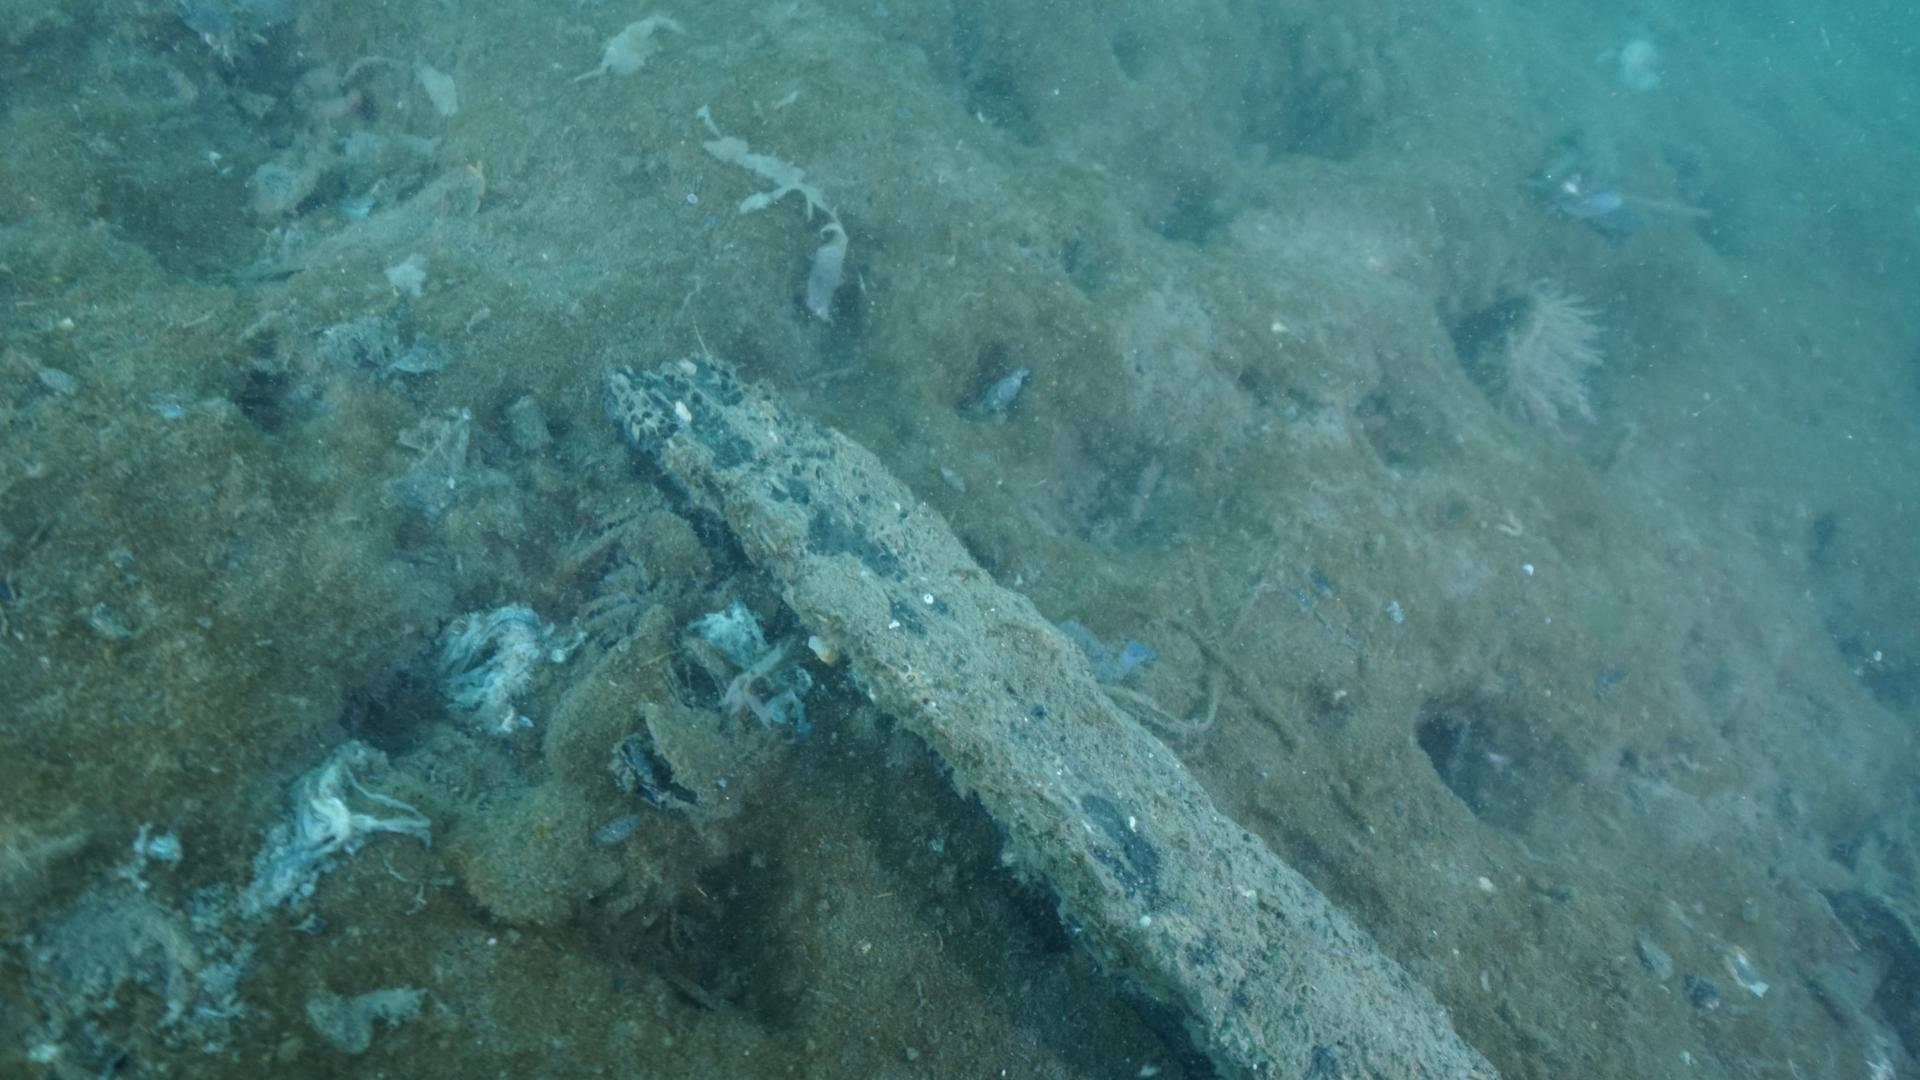wood: (589, 345, 1505, 1080)
